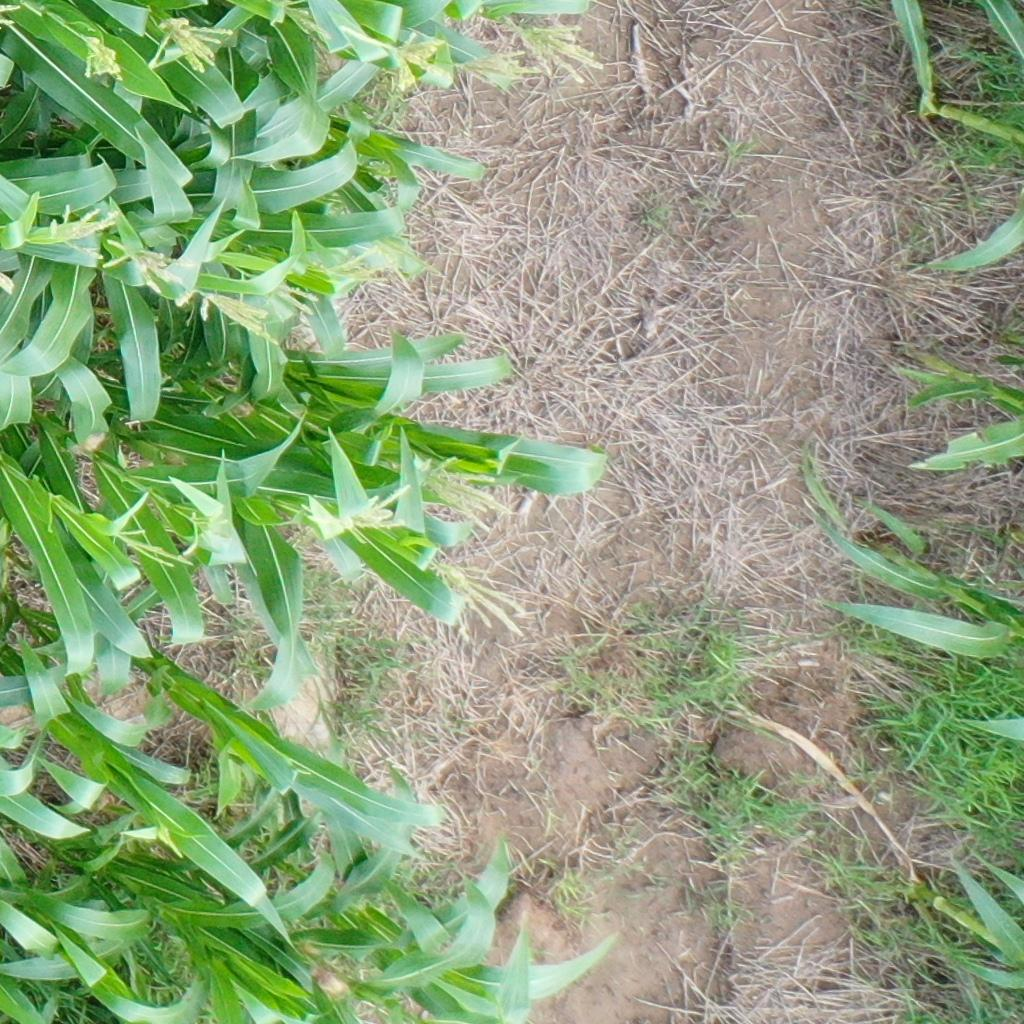Tassel: (334, 16, 455, 99), (432, 556, 530, 647), (417, 441, 509, 535), (93, 230, 204, 303), (319, 481, 416, 546), (143, 12, 238, 75), (519, 15, 604, 84), (191, 284, 283, 346), (106, 517, 198, 578), (367, 221, 441, 290), (44, 199, 119, 262), (466, 49, 544, 99), (266, 264, 325, 328), (315, 241, 388, 291), (265, 1, 330, 45), (183, 506, 236, 559), (74, 30, 129, 80)
